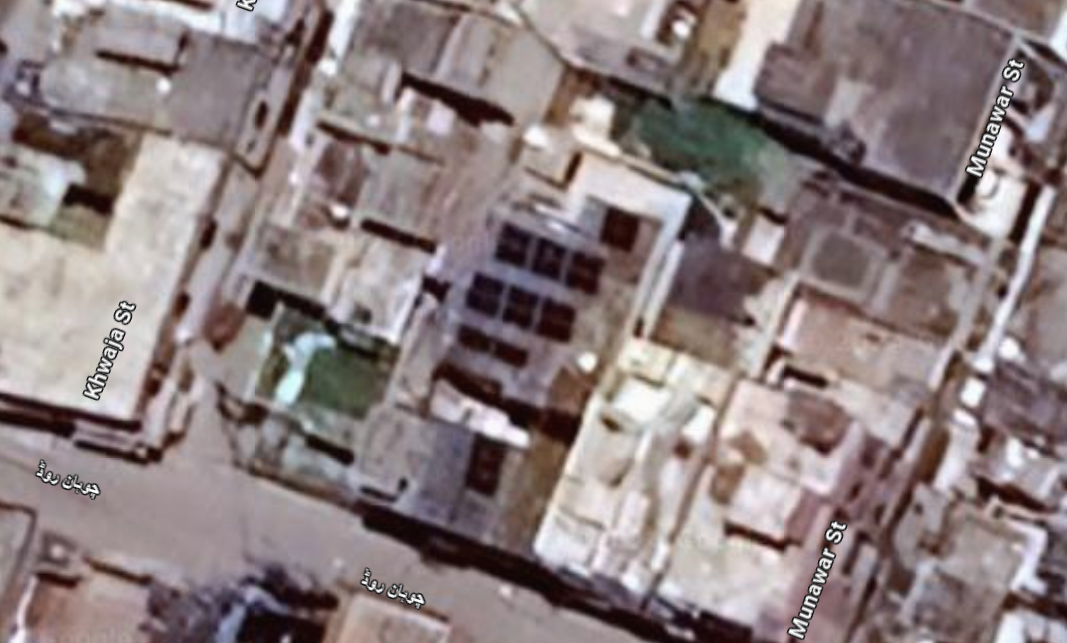solar-panel: (470, 196, 631, 393)
